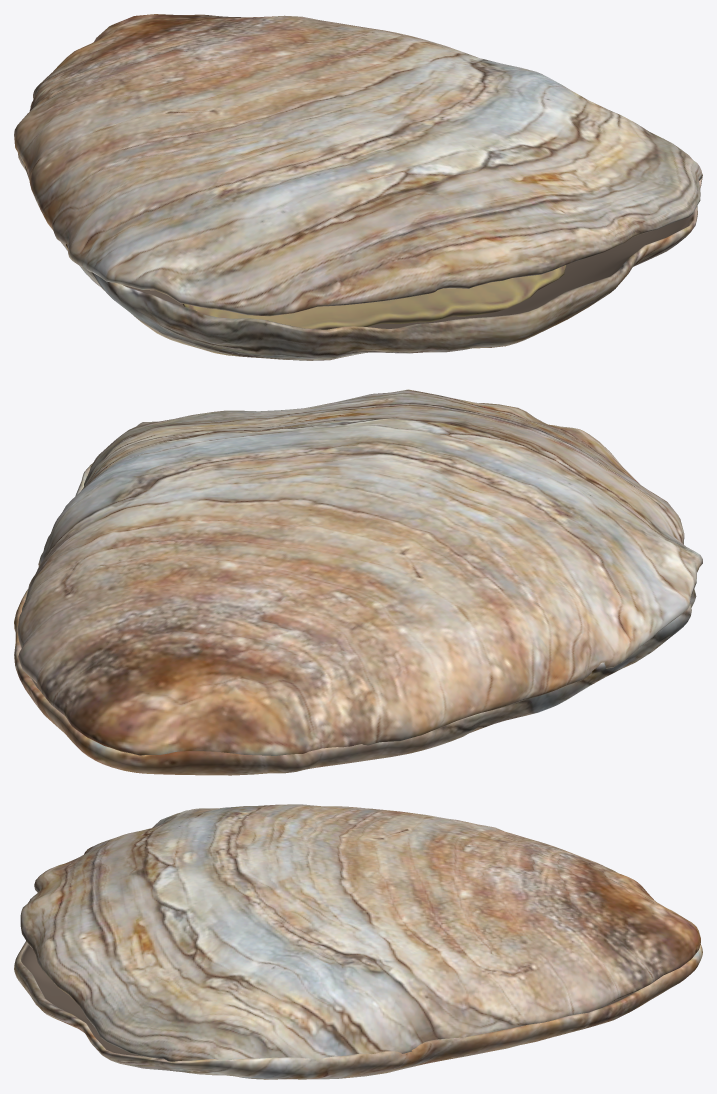
Rendered from oysterfinal.fbx.
3 views of the same model, one above another, from view 1: azimuth 30°, elevation 25°; view 2: azimuth 150°, elevation 25°; view 3: azimuth 270°, elevation 25° (orthographic). The views are drawn at different scales.
Visible parts, largest first — view 1: polySurface10, polySurface7, polySurface3; view 2: polySurface10, polySurface7; view 3: polySurface10, polySurface7.
Part boxes in pixels (<box>): polySurface10: <box>14,14,702,316</box>; polySurface7: <box>18,101,702,360</box>; polySurface3: <box>182,265,566,329</box>; polySurface10: <box>17,389,702,755</box>; polySurface7: <box>14,463,696,775</box>; polySurface10: <box>20,804,700,1062</box>; polySurface7: <box>14,941,702,1079</box>.
Bounding box in the file's own units: 0.5142 × 0.1528 × 0.6105.
Materials: 1 (1 with a texture image).
